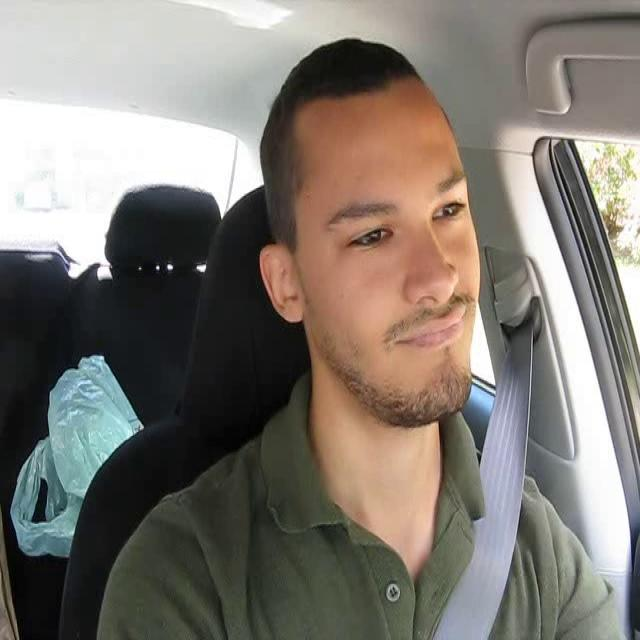close: (393, 305, 481, 352)
